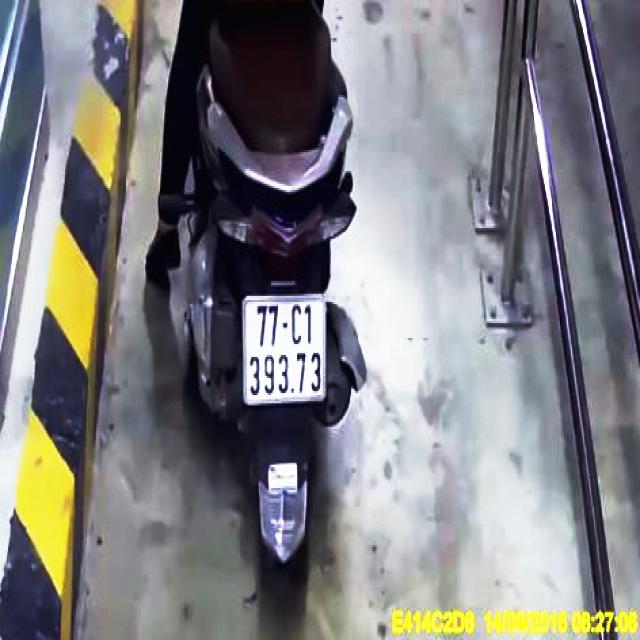license_plate: (248, 300, 328, 399)
